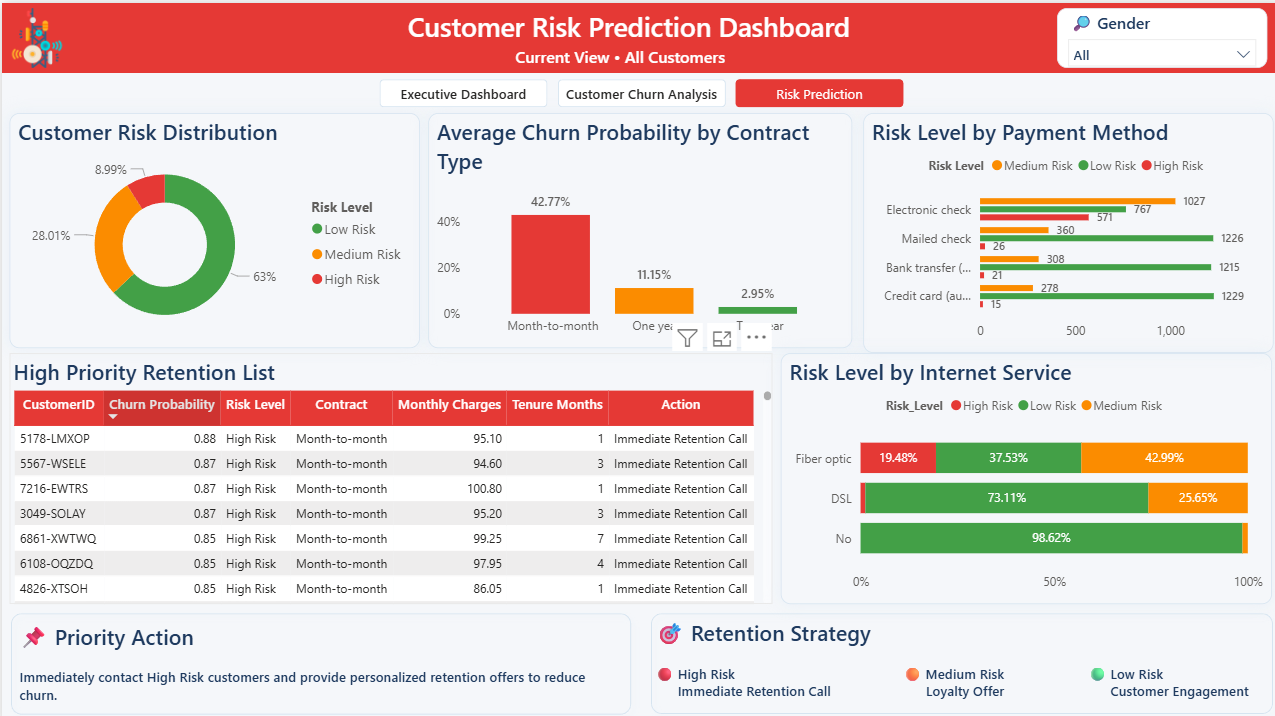

The dashboard page shown, as its layout file describes it:
{"tool":"powerbi","page":{"name":"Risk Prediction","canvas":[1280,720],"ordinal":2},"visuals":[{"type":"shape","box":[639.4,600.8,631,119.4],"z":0},{"type":"shape","box":[0,600.8,638.2,119.4],"z":1000},{"type":"shape","box":[0,0,1280,70],"z":2000},{"type":"textbox","box":[232.5,0,788.8,57.5],"z":3000},{"type":"image","box":[5,5,60,60],"z":4000},{"type":"cardVisual","fields":{"Data":["customer_churn_with_risk.Selected Filters"]},"box":[501.2,28.8,277.5,46.2],"z":5000},{"type":"donutChart","title":"Customer Risk Distribution","fields":{"Category":["customer_churn_with_risk.Risk_Level"],"Y":["CountNonNull(customer_churn_with_risk.CustomerID)"]},"box":[7.5,110,410,235],"z":6000},{"type":"clusteredColumnChart","title":"Average Churn Probability by Contract Type","fields":{"Category":["customer_churn_with_risk.Contract"],"Y":["customer_churn_with_risk.Average Churn Probability"]},"box":[426.2,110,423.8,235],"z":7000},{"type":"clusteredBarChart","title":"Risk Level by Payment Method","fields":{"Category":["customer_churn_with_risk.Payment_Method"],"Y":["CountNonNull(customer_churn_with_risk.CustomerID)"],"Series":["customer_churn_with_risk.Risk_Level"]},"box":[861.2,110,410,240],"z":8000},{"type":"tableEx","title":"High Priority Retention List","fields":{"Values":["customer_churn_with_risk.CustomerID","customer_churn_with_risk.Churn_Probability","customer_churn_with_risk.Risk_Level","customer_churn_with_risk.Contract","customer_churn_with_risk.Monthly_Charges","customer_churn_with_risk.Tenure_Months","customer_churn_with_risk.Recommended Action"]},"box":[7.5,350,762.5,251.2],"z":9000},{"type":"hundredPercentStackedBarChart","title":"Risk Level by Internet Service","fields":{"Category":["customer_churn_with_risk.Internet_Service"],"Y":["CountNonNull(customer_churn_with_risk.CustomerID)"],"Series":["customer_churn_with_risk.Risk_Level"]},"box":[778.8,350,491.2,251.2],"z":10000},{"type":"textbox","box":[12.5,613.8,613.8,106.2],"z":11000},{"type":"textbox","box":[648.8,610,612.5,110],"z":12000},{"type":"slicer","fields":{"Values":["customer_churn_with_risk.Gender"]},"box":[1055,5,210,60],"z":12001},{"type":"pageNavigator","box":[377.5,76,525,28.8],"z":12002}]}

Visuals, with their boxes in screenshot pixels (x1, y1, x2, y2), scaled from the page's 1280x720 canvas onto the 1275x716 screenshot:
shape: 637,597,1265,715
shape: 0,597,636,715
shape: 0,0,1274,70
textbox: 232,0,1017,57
image: 5,5,65,65
cardVisual - customer_churn_with_risk.Selected Filters: 499,29,776,75
"Customer Risk Distribution" donutChart: 7,109,416,343
"Average Churn Probability by Contract Type" clusteredColumnChart: 425,109,847,343
"Risk Level by Payment Method" clusteredBarChart: 858,109,1266,348
"High Priority Retention List" tableEx: 7,348,767,598
"Risk Level by Internet Service" hundredPercentStackedBarChart: 776,348,1265,598
textbox: 12,610,624,715
textbox: 646,607,1256,715
slicer - customer_churn_with_risk.Gender: 1051,5,1260,65
pageNavigator: 376,76,899,104
